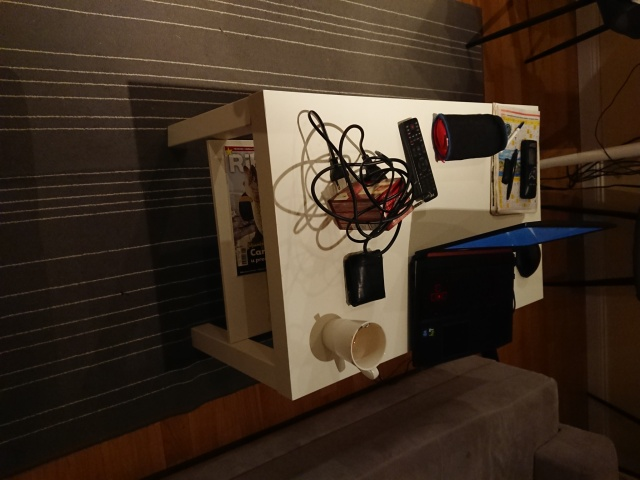Franck Apple Cinnamon Tea 60g: (324, 175, 417, 233)
